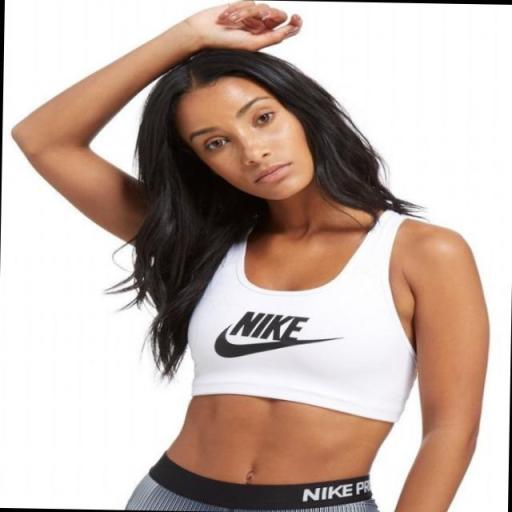Nike: (210, 335, 316, 360), (230, 311, 310, 340)
